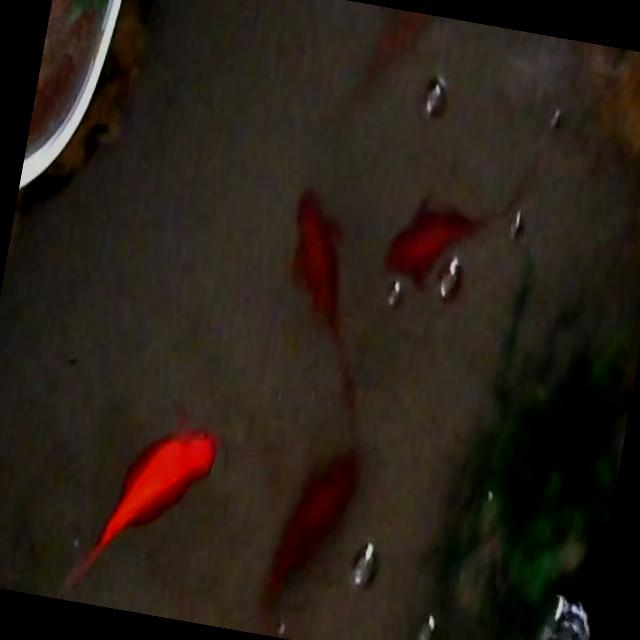fish: (60, 398, 224, 618), (260, 183, 394, 423), (258, 436, 365, 626), (380, 176, 520, 312), (350, 3, 441, 111)
